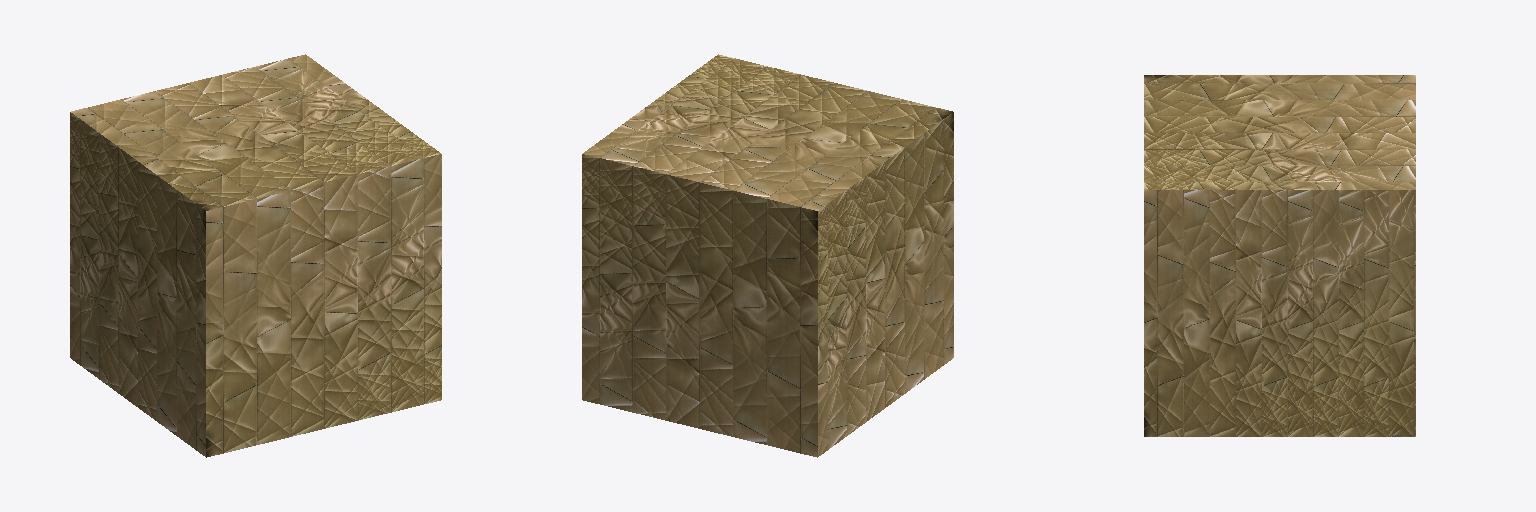
3 renders of one model, left to right at view 1: azimuth 30°, elevation 25°; view 2: azimuth 150°, elevation 25°; view 3: azimuth 270°, elevation 25°, orthographic.
Visible parts, largest first — view 1: Cube; view 2: Cube; view 3: Cube.
Part boxes in pixels (x1,y1,x2,y2): Cube: (70, 54, 441, 457); Cube: (582, 54, 953, 457); Cube: (1144, 75, 1415, 436).
Bounding box in the file's own units: 2 × 2 × 2.
2 materials, 1 textured.